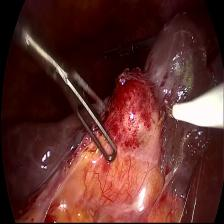Grasper: (25, 29, 120, 170), (100, 38, 138, 61)
Hook: (164, 80, 224, 136)
